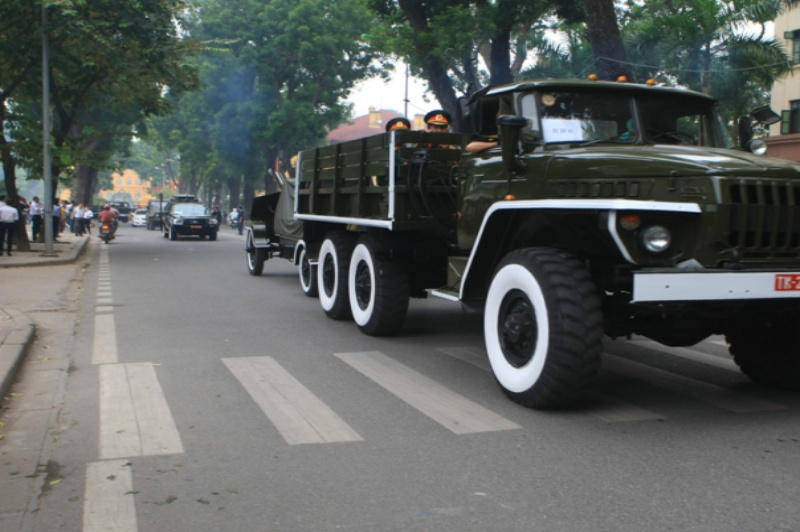plate: (773, 271, 800, 295)
